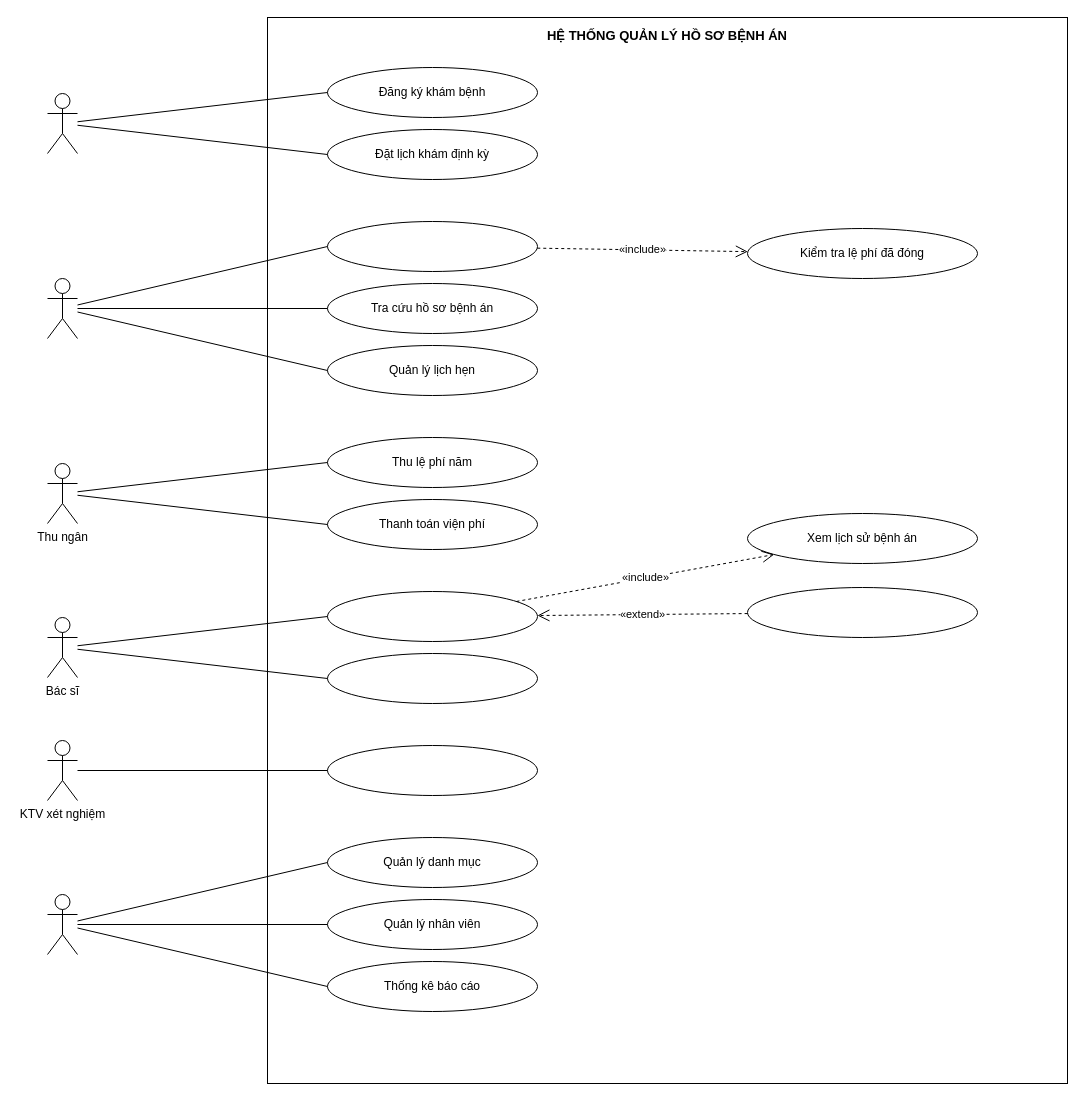
Some shapes in this 1085 by 1101 pixel diagram are drawn without their labels. Each missing label, with the centre of its shape:
"Bệnh nhân" goes at (x=62, y=123).
"Chỉ định xét nghiệm" goes at (x=862, y=612).
"Khám bệnh" goes at (x=432, y=616).
"Kê toa thuốc" goes at (x=432, y=678).
"Lập hồ sơ bệnh án" goes at (x=432, y=246).
"Nhập kết quả xét nghiệm" goes at (x=432, y=770).
"NV chăm sóc KH" goes at (x=62, y=308).
"Quản trị" goes at (x=62, y=924).
